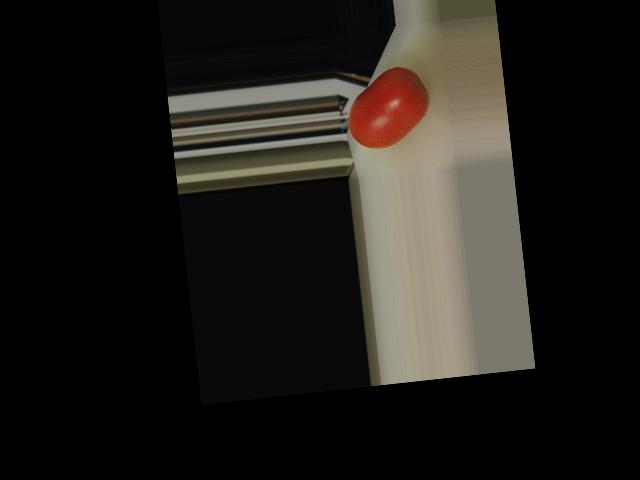tomato: (343, 64, 433, 151)
